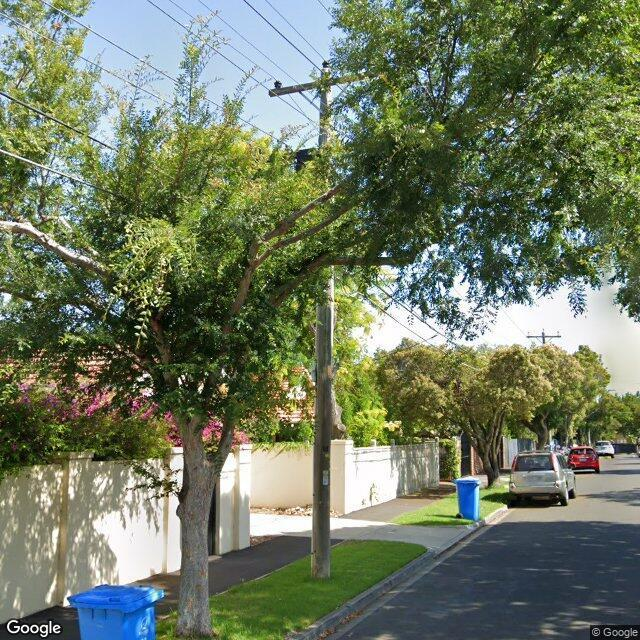HV-transmission: (269, 60, 379, 98), (526, 328, 561, 338)
crossarm: (269, 70, 380, 98), (526, 335, 561, 339)
timber-pole: (310, 61, 333, 579)
transformer: (296, 146, 318, 172)
